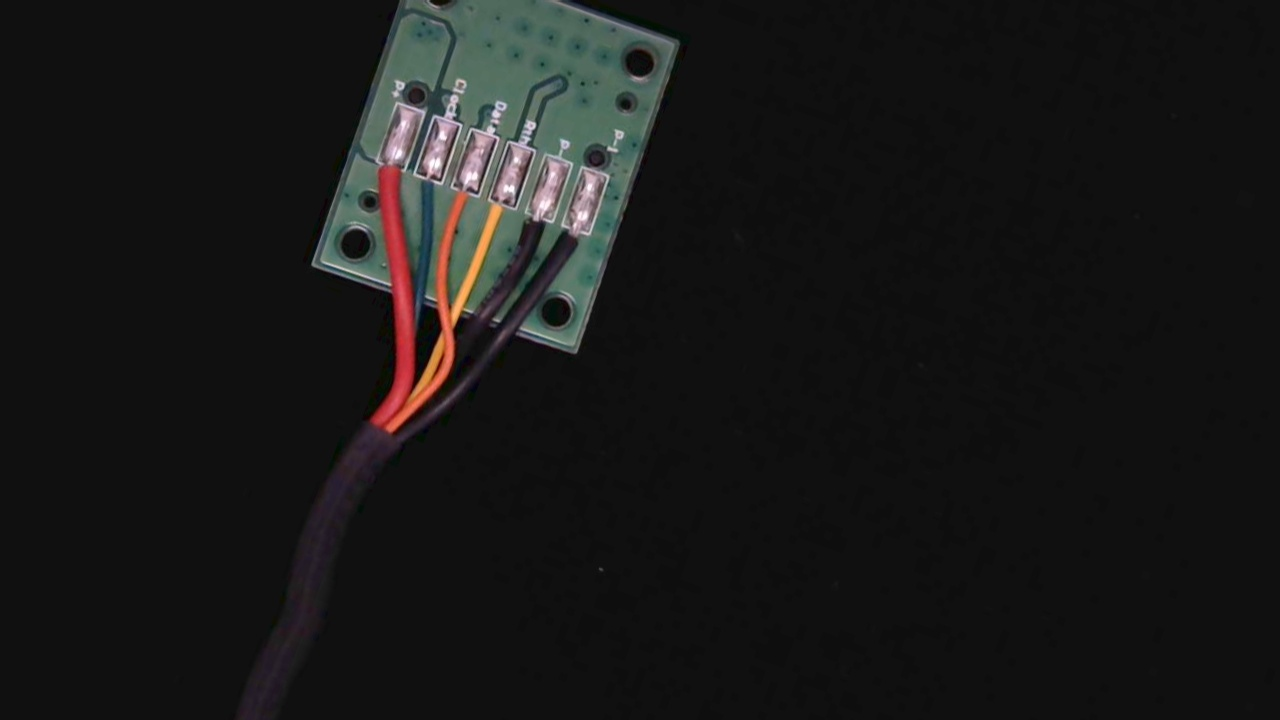Black: (506, 199, 556, 269)
Black1: (541, 212, 595, 286)
Green: (400, 157, 447, 219)
Orange: (431, 170, 484, 241)
Red: (357, 145, 412, 216)
Yellow: (469, 184, 521, 255)
